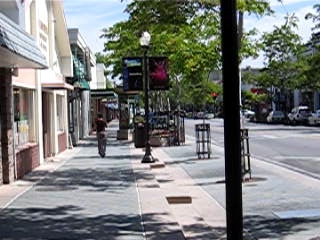person: (95, 112, 110, 159), (94, 112, 109, 159), (96, 112, 111, 159), (95, 111, 110, 158), (95, 113, 110, 160)
target_negative: (18, 13, 64, 114), (4, 187, 168, 205), (132, 124, 256, 137), (194, 106, 288, 123), (223, 12, 279, 39), (283, 200, 287, 234)
